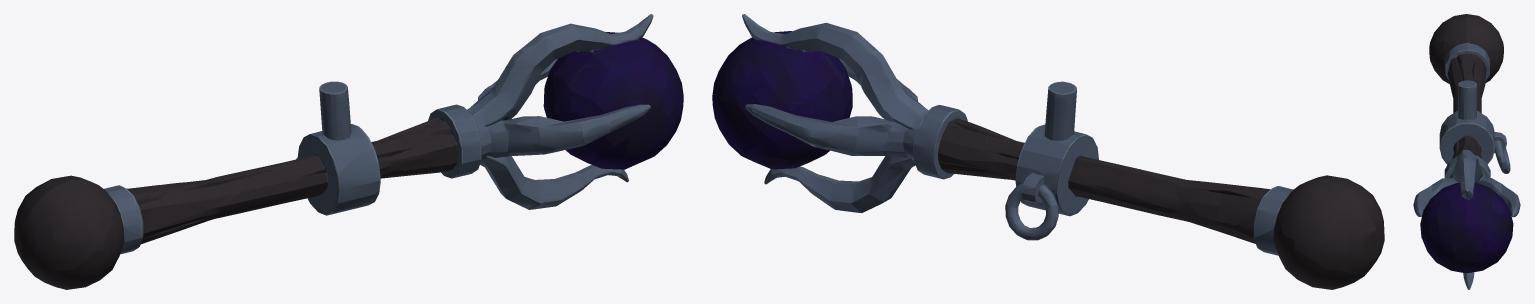
Rendered from void.glb.
The picture shows the model from 3 angles, left to right: view 1: azimuth 30°, elevation 25°; view 2: azimuth 150°, elevation 25°; view 3: azimuth 270°, elevation 25°; orthographic projection. The views are drawn at different scales.
Size of the model in its own units: 1.9 by 0.4959 by 0.4094.
Materials: 1 (1 with a texture image).
